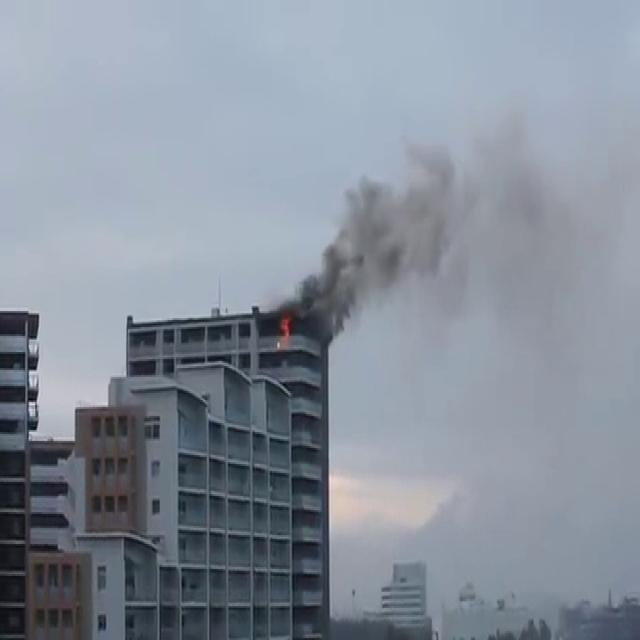Smoke: (296, 61, 579, 368)
